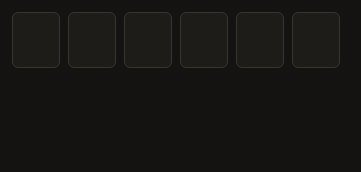
Test: CodeInput › accepts a pasted code with separators
Click the field named "Character 1 of 6". click: (36, 40)
box: [12,12,60,68]
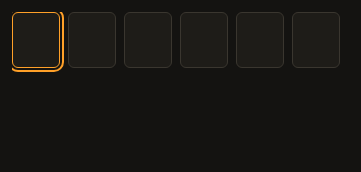
Type keys "x5gm-4q"
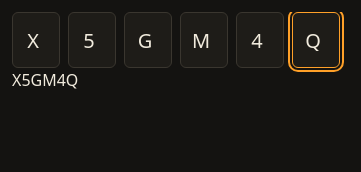
expect the text with test id "value" reads "X5GM4Q": met, box [12,69,78,91]
